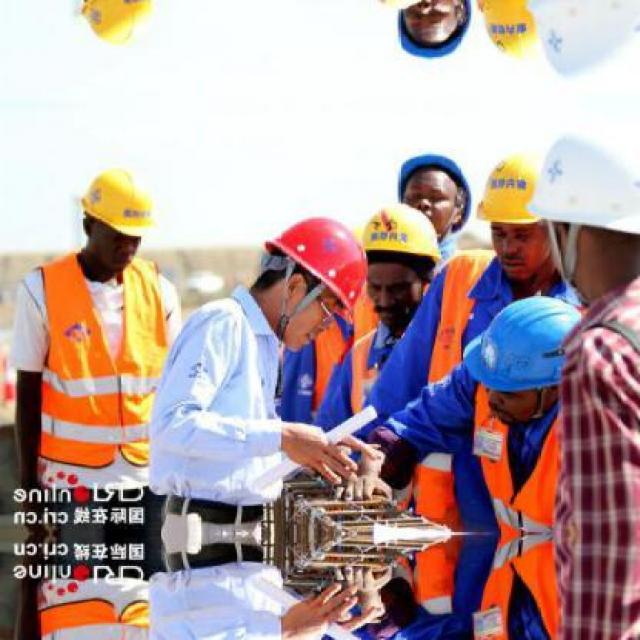Reflective-Jacket: (20, 256, 174, 473), (432, 253, 570, 392), (472, 404, 565, 534)
Safety-Helmet: (459, 293, 586, 395), (254, 211, 374, 316), (526, 130, 640, 234), (71, 162, 166, 244), (475, 146, 548, 230), (354, 199, 443, 267)
